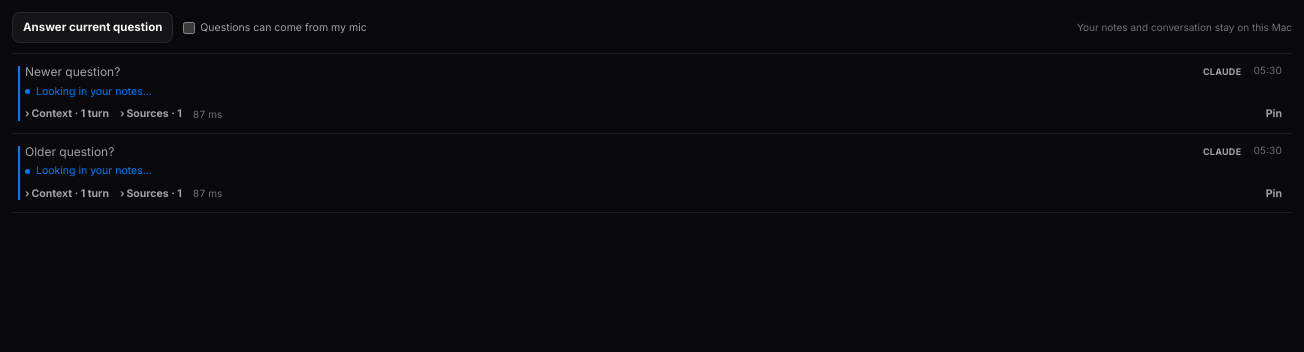
it: CopilotCards › renders newest first and keeps source passages collapsed until requested
Check: the text "Newer question?" is shown, box left=25, top=64, right=120, bottom=79
Check: the text "Older question?" is shown, box left=25, top=144, right=114, bottom=159
Click the button "› Sources · 1" below "Newer question?". click: {"x": 151, "y": 114}
box: left=120, top=105, right=182, bottom=123
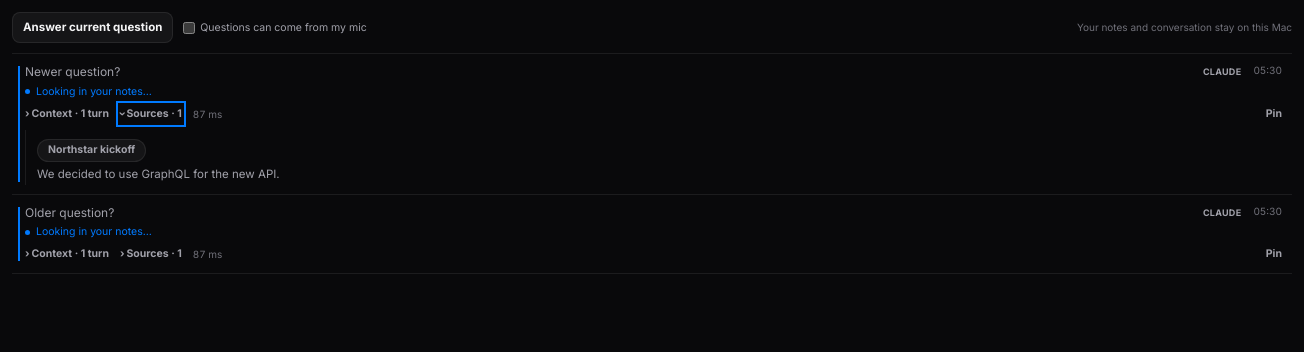
Click the button "› Sources · 1" below "Older question?". click: {"x": 151, "y": 254}
box: left=120, top=245, right=182, bottom=263
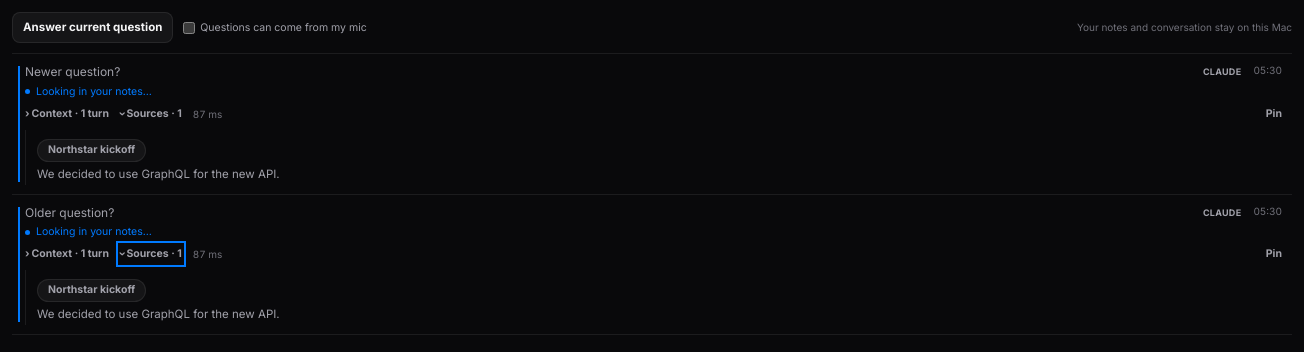
Check: the text "05:30" in the row of "Newer question?" is shown, box left=1253, top=64, right=1282, bottom=76
Check: the text "Northstar kickoff" is shown 2 times, box left=37, top=139, right=146, bottom=162; left=37, top=279, right=146, bottom=302
Check: the text "We decided to use GraphQL for the new API." is shown 2 times, box left=37, top=166, right=280, bottom=180; left=37, top=307, right=280, bottom=321
